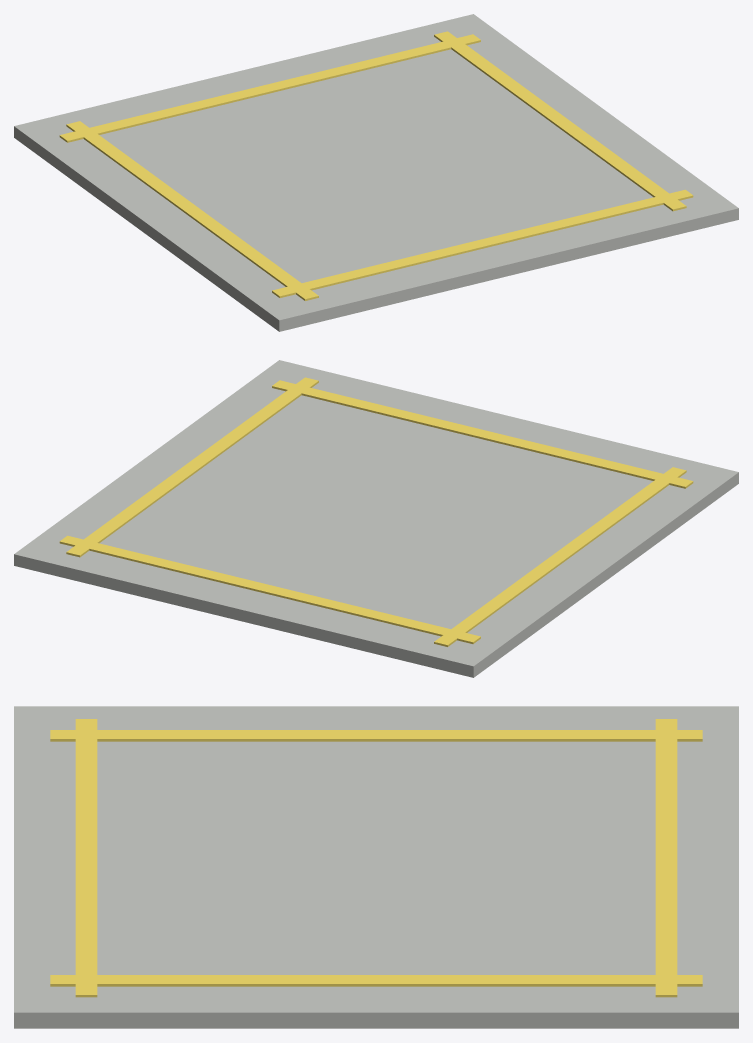
File: mech-hangar-and-battle-frames-deployment-pad-03ce43e2__26979.glb
The picture shows the model from 3 angles, top to bottom: view 1: azimuth 30°, elevation 25°; view 2: azimuth 150°, elevation 25°; view 3: azimuth 270°, elevation 25°; orthographic projection. The views are drawn at different scales.
Visible parts, largest first — view 1: deployment-pad; view 2: deployment-pad; view 3: deployment-pad.
Part boxes in pixels (x1=…): deployment-pad: x1=14, y1=14, x2=738, y2=331; deployment-pad: x1=14, y1=360, x2=738, y2=677; deployment-pad: x1=14, y1=706, x2=738, y2=1028.
Bounding box in the file's own units: 5 × 0.14 × 5.
